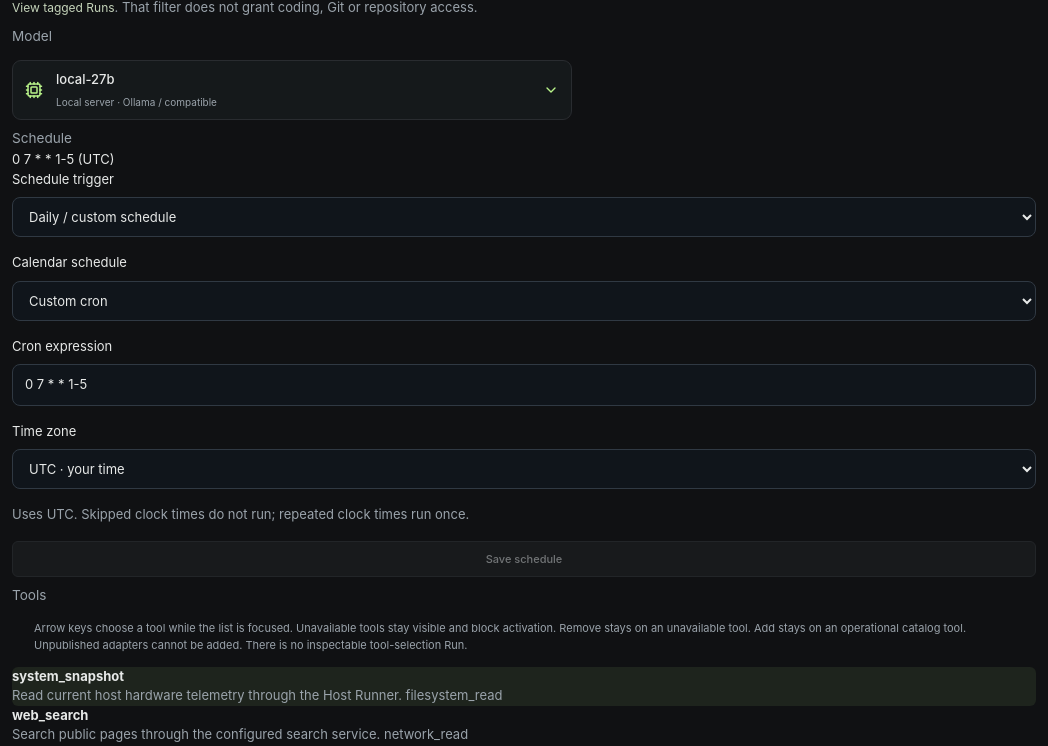
Test: saves a schedule from the conversation without Enable or Run now
(page scrolled)
Expected: the text "0 7 * * 1-5 (UTC)" is shown, [12, 151, 114, 167]
Expected: the dropdown named "Schedule trigger agent-on" shows "Daily / custom schedule", [12, 197, 1036, 237]
Replace the text in the field named "Cron expression agent-on" with "30 6 * * 1-5": (524, 385) [12, 364, 1036, 406]
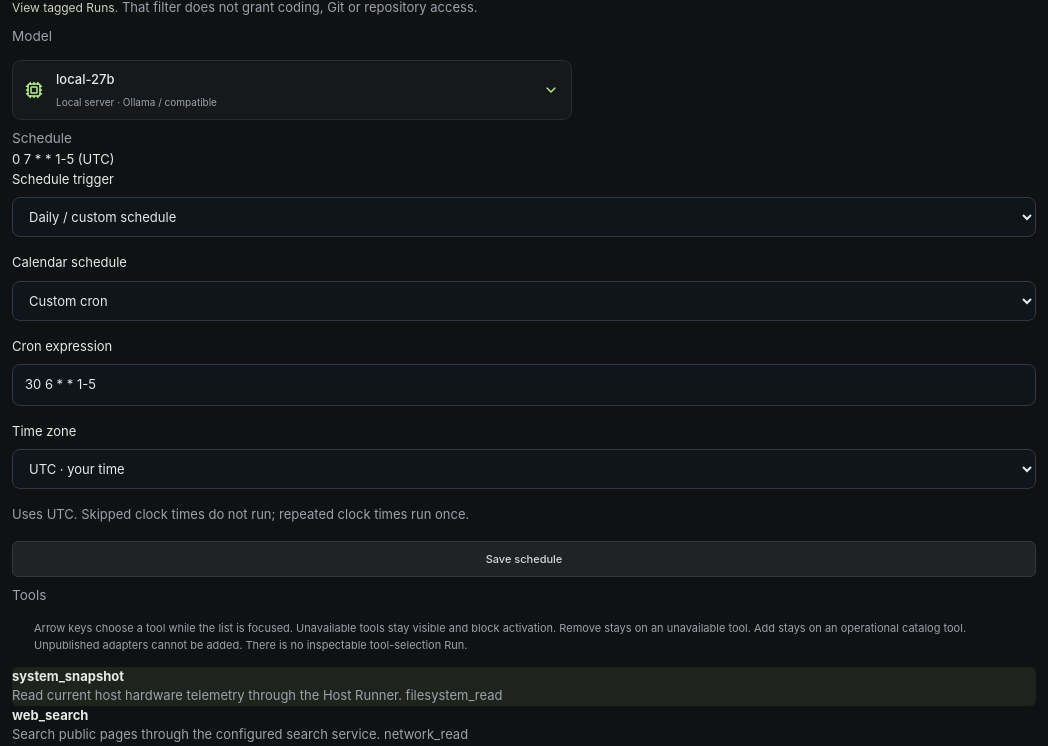
Click the button with aria-label "Save schedule agent-on": (524, 559) [12, 541, 1036, 577]
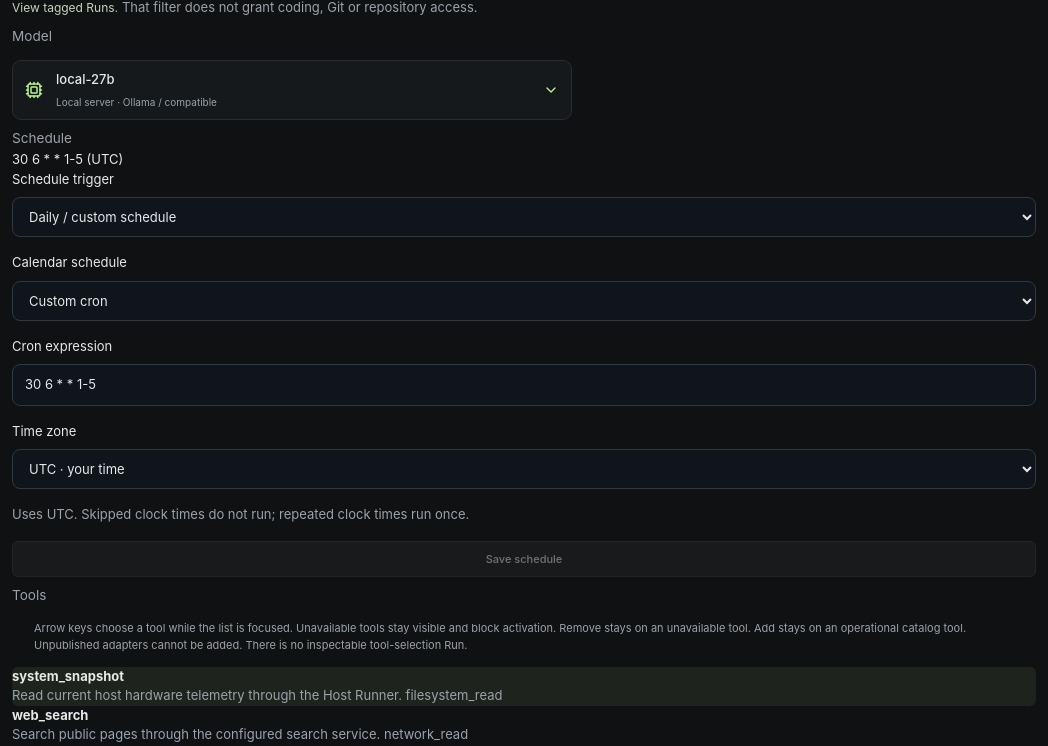
Expected: the text "30 6 * * 1-5 (UTC)" is shown, [12, 151, 123, 167]
